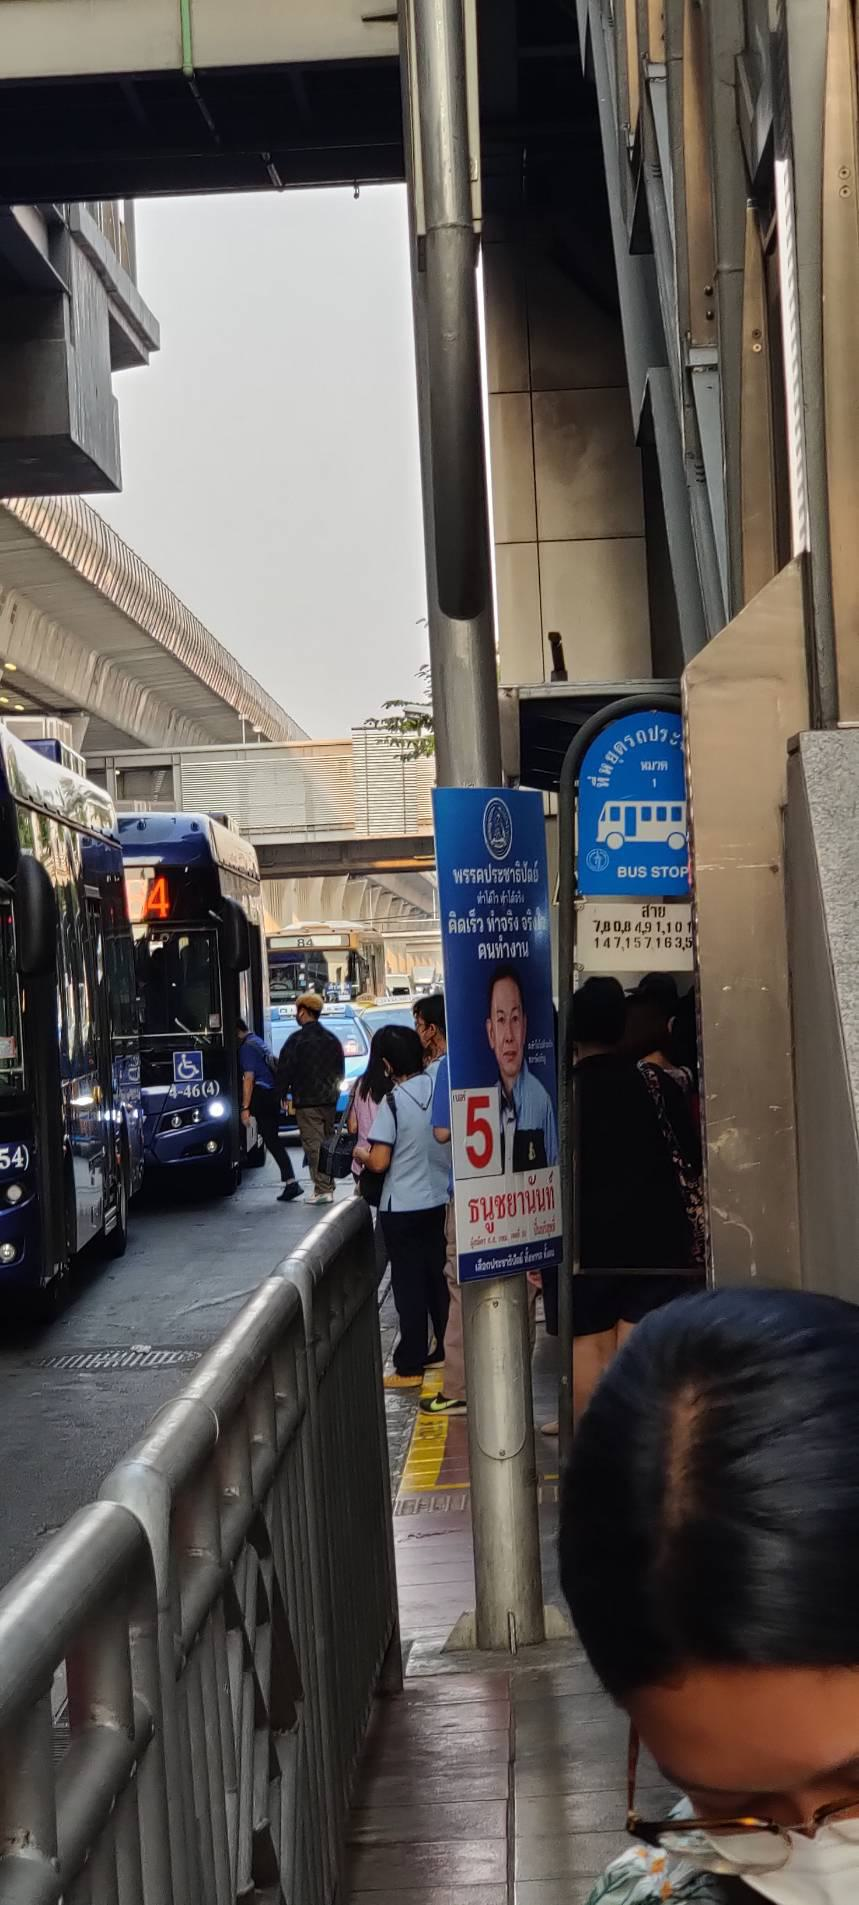Banner: (422, 781, 584, 1257)
